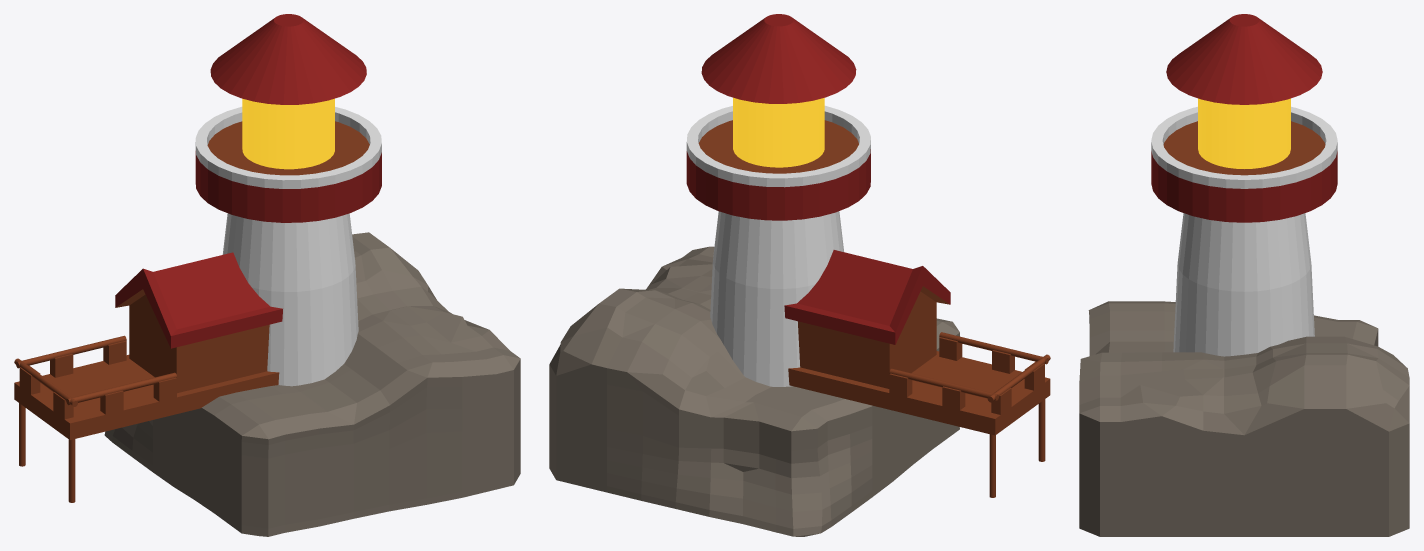
File: lighthouse.glb
The picture shows the model from 3 angles, left to right: view 1: azimuth 30°, elevation 25°; view 2: azimuth 150°, elevation 25°; view 3: azimuth 270°, elevation 25°; orthographic projection.
Visible parts, largest first — view 1: Cylinder; view 2: Cylinder; view 3: Cylinder.
Part boxes in pixels (x1,y1,x2,y2): Cylinder: (14,14,520,536); Cylinder: (549,14,1050,536); Cylinder: (1079,14,1409,536).
Size of the model in its own units: 6.53 by 6.84 by 4.6.
